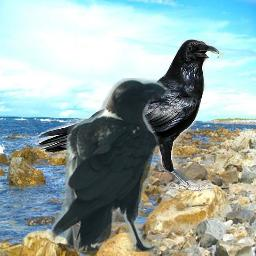Crow: (35, 39, 225, 192), (49, 78, 171, 252)
